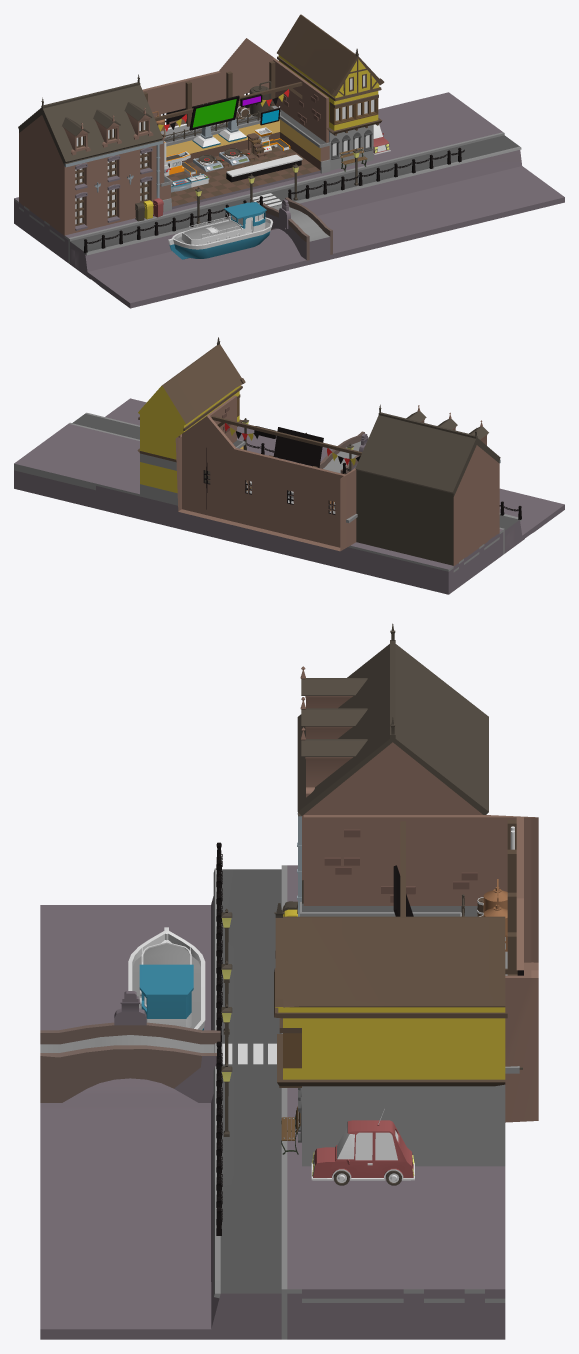
The model's file is Map Brugge.fbx.
3 renders of one model, top to bottom at view 1: azimuth 30°, elevation 25°; view 2: azimuth 150°, elevation 25°; view 3: azimuth 270°, elevation 25°, orthographic. The views are drawn at different scales.
Visible parts, largest first — view 1: Cube.017; view 2: Cube.017; view 3: Cube.017.
Part boxes in pixels (x1,y1,x2,y2): Cube.017: [14, 14, 564, 308]; Cube.017: [14, 337, 564, 594]; Cube.017: [40, 623, 538, 1339].
Size of the model in its own units: 49.51 by 15.9 by 24.53.
